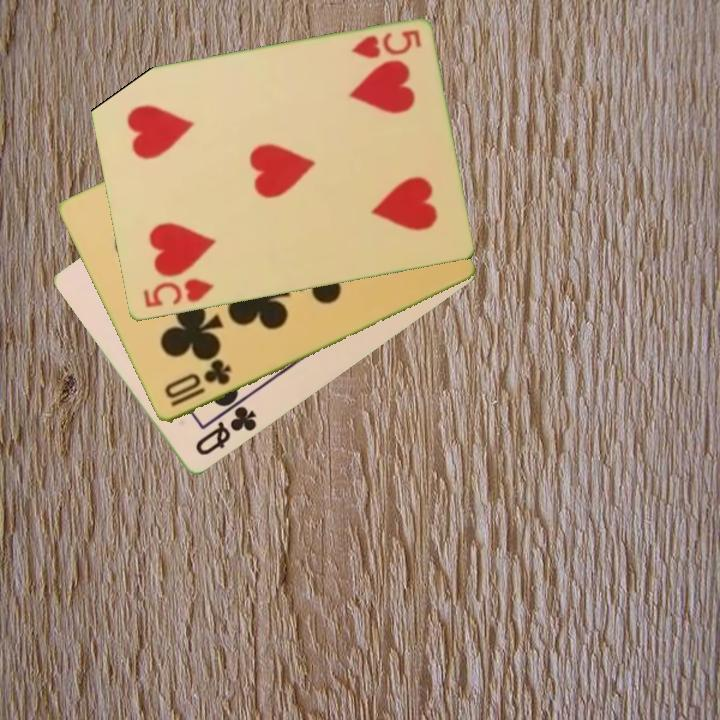10c: (160, 357, 234, 410)
5h: (139, 275, 216, 311), (347, 27, 424, 62)
Qc: (191, 403, 260, 459)
